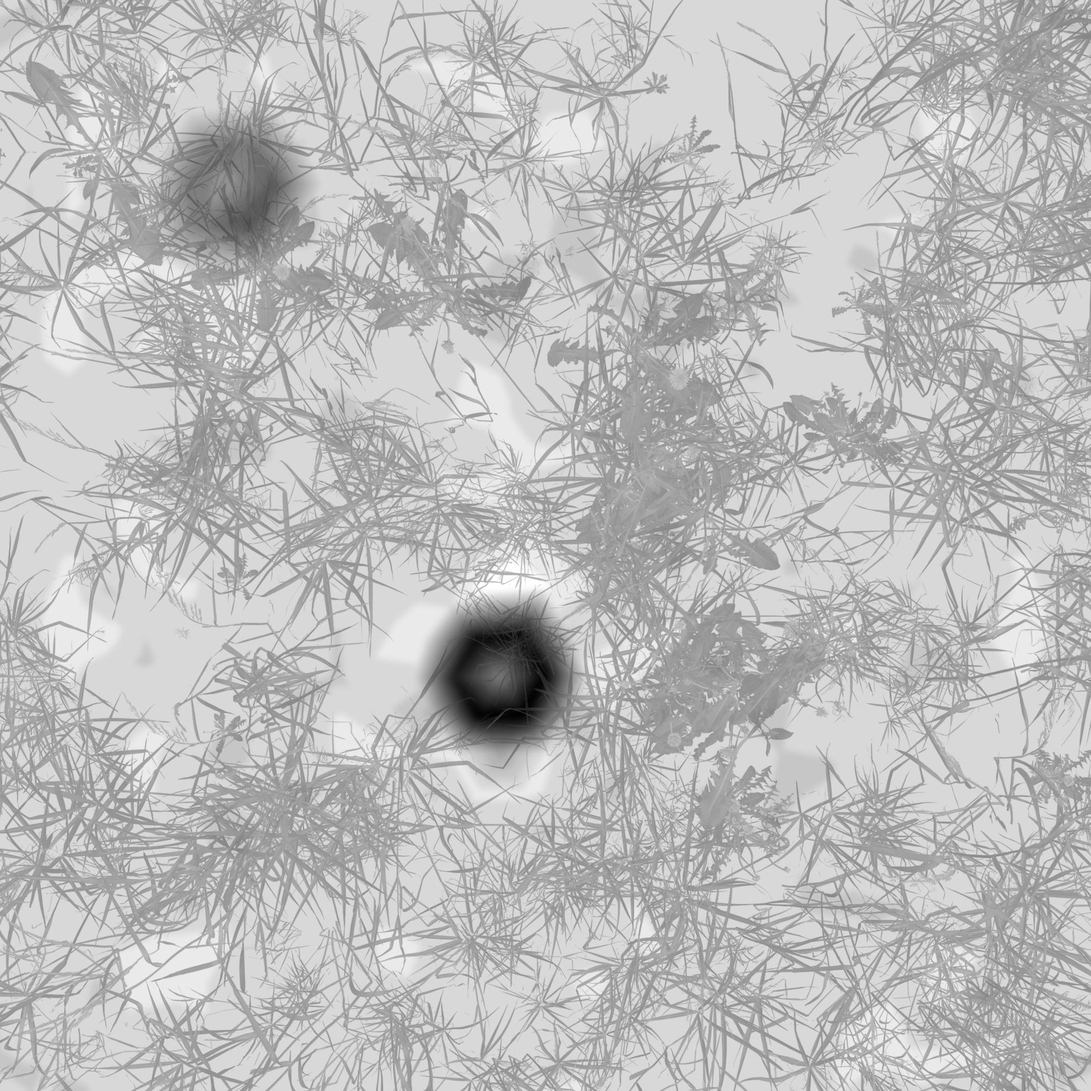landmine: (158, 112, 317, 268), (433, 600, 580, 758)
